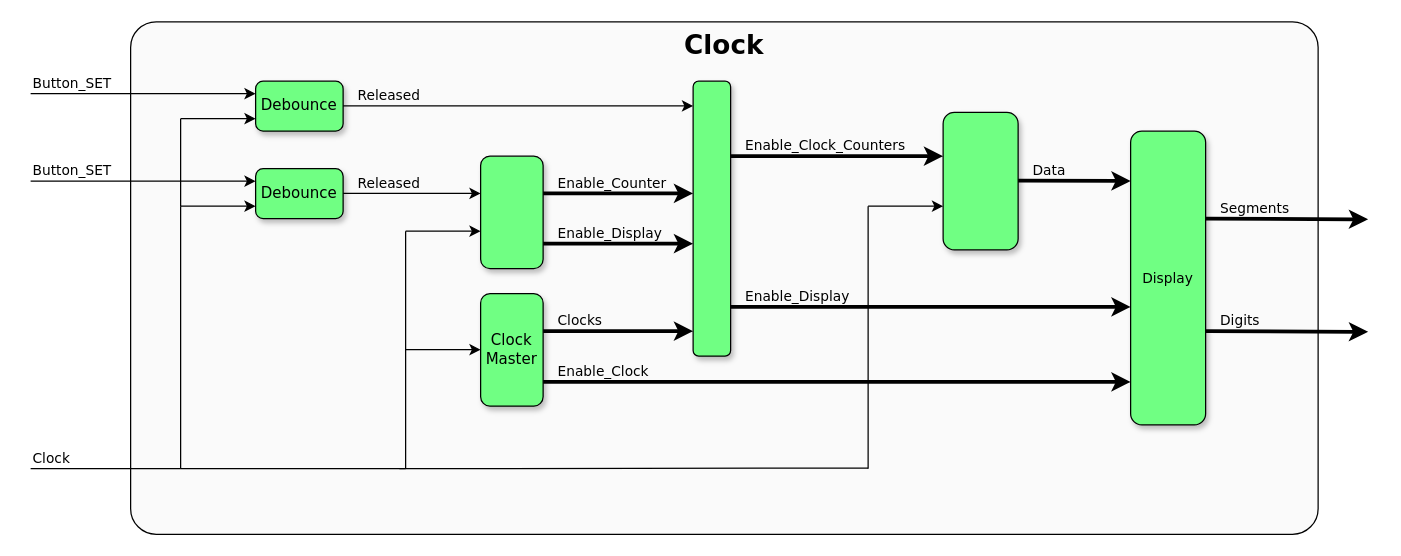
Image size: 1401x556. Some labels were removed from this diagram. The shapes that lost their labels are listed below. From the top down, each one's centre as x and y in pixels, then its label:
At (981,182): "Clock Counters".
At (512,213): "Control Unit".
At (712,220): "Interconnet".
